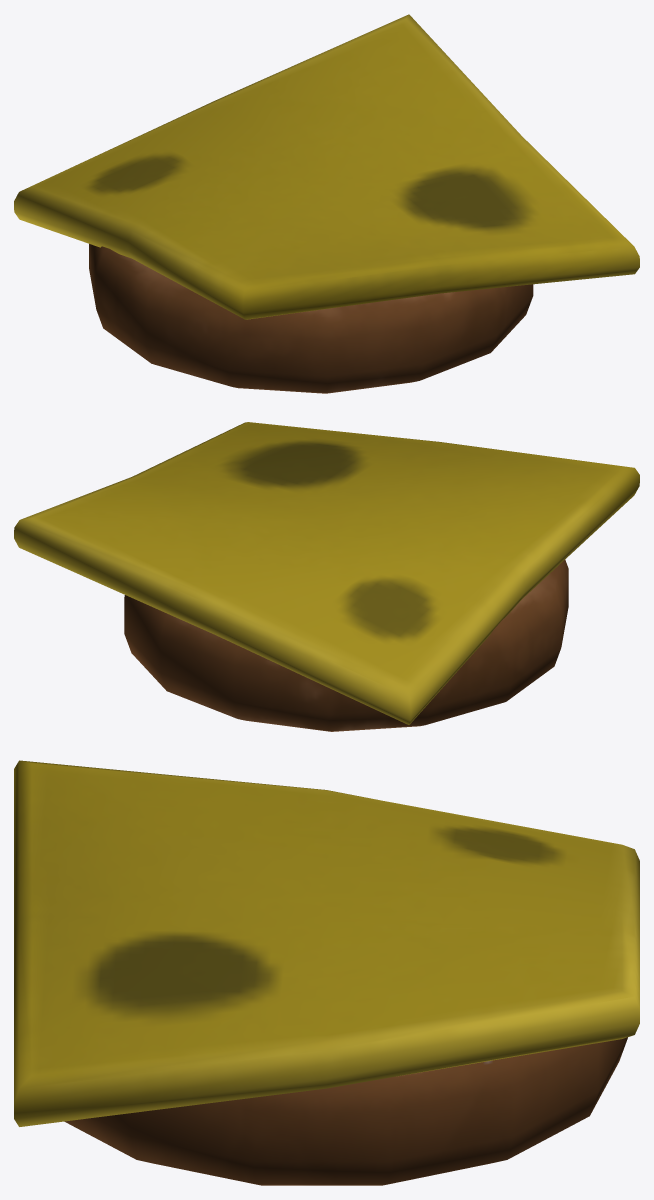
The model's file is MSH_C_Q.fbx.
3 renders of one model, top to bottom at view 1: azimuth 30°, elevation 25°; view 2: azimuth 150°, elevation 25°; view 3: azimuth 270°, elevation 25°, orthographic. The views are drawn at different scales.
Parts seen in each view (by area): view 1: MSH_C_Q; view 2: MSH_C_Q; view 3: MSH_C_Q.
Boxes of the visible parts, x1,y1,x2,y2 form: MSH_C_Q: (14,14,639,393); MSH_C_Q: (14,422,639,731); MSH_C_Q: (14,760,639,1185).
Size of the model in its own units: 13.4 by 13.1 by 5.04.
1 material, 1 textured.
